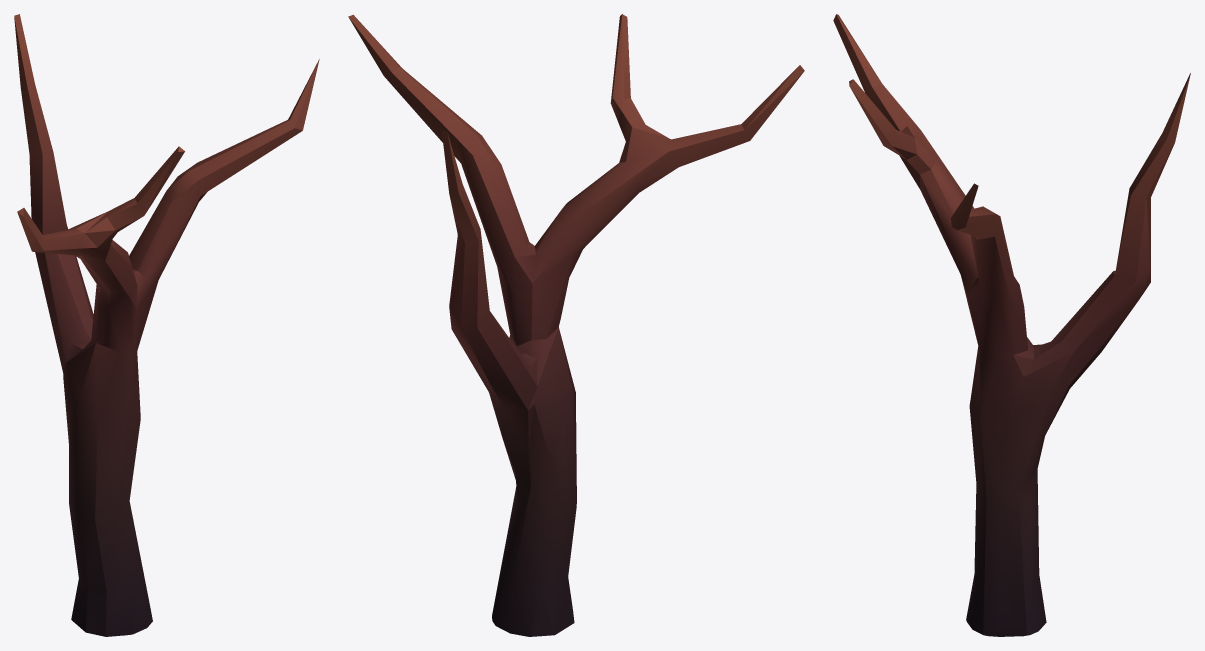
The model's file is DeadTree1.fbx.
3 views of the same model, side by side, from view 1: azimuth 30°, elevation 25°; view 2: azimuth 150°, elevation 25°; view 3: azimuth 270°, elevation 25° (orthographic). The views are drawn at different scales.
Parts seen in each view (by area): view 1: DeadTree1; view 2: DeadTree1; view 3: DeadTree1.
Boxes of the visible parts, x1,y1,x2,y2 form: DeadTree1: [14, 14, 319, 636]; DeadTree1: [348, 14, 804, 636]; DeadTree1: [833, 14, 1190, 636].
Size of the model in its own units: 4.3 by 5.96 by 3.54.
